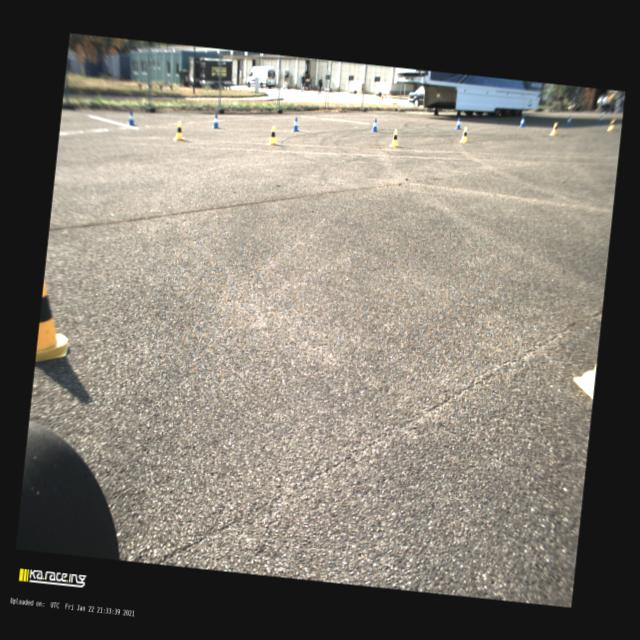blue_cone: (126, 108, 136, 125), (211, 113, 221, 129), (292, 116, 300, 132), (371, 117, 378, 132), (454, 117, 462, 130), (519, 116, 525, 128)
yellow_cone: (34, 277, 74, 365), (173, 121, 185, 141), (388, 128, 400, 147), (267, 126, 278, 145), (459, 126, 468, 143), (549, 122, 558, 136)
